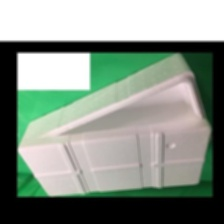foam_box: (16, 52, 216, 200)
